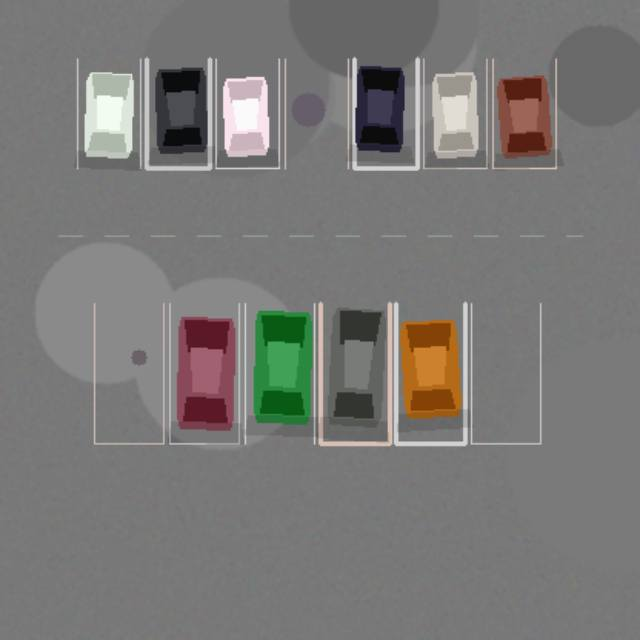space-empty: (94, 303, 163, 443), (471, 303, 540, 443), (285, 58, 348, 168)
space-occupied: (395, 303, 465, 443), (169, 303, 238, 443), (245, 303, 314, 443), (320, 303, 389, 443), (77, 58, 140, 168), (146, 58, 209, 168), (215, 58, 278, 168), (354, 58, 417, 168), (423, 58, 486, 168), (492, 58, 555, 168)
